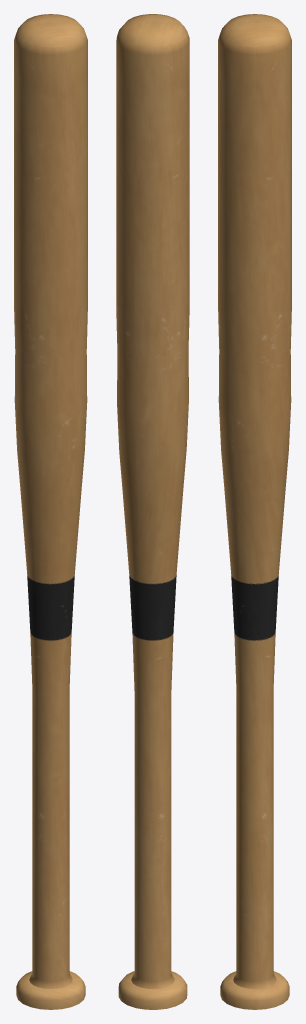
The model's file is baseball_bat.glb.
3 views of the same model, side by side, from view 1: azimuth 90°, elevation 25°; view 2: azimuth 150°, elevation 25°; view 3: azimuth 270°, elevation 25° (orthographic).
Visible parts, largest first — view 1: Object_2; view 2: Object_2; view 3: Object_2.
Part boxes in pixels (x1,y1,x2,y2): Object_2: [14, 14, 87, 1009]; Object_2: [116, 14, 189, 1009]; Object_2: [218, 14, 291, 1009].
Bounding box in the file's own units: 1.38 × 19.97 × 1.38.
1 material, 1 textured.
